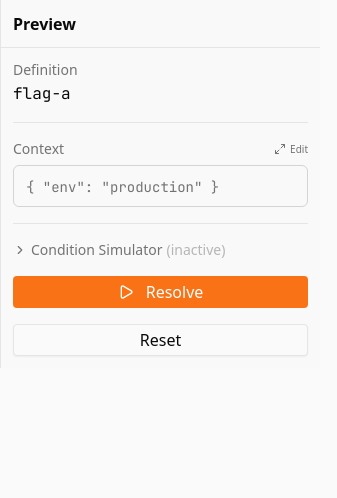
Test case: PreviewPanel › should show no-match result when variation is not found
The width and height of the screenshot is (337, 498).
Click the button "Resolve".
click(160, 292)  # box top-left (13, 276), bottom-right (308, 308)
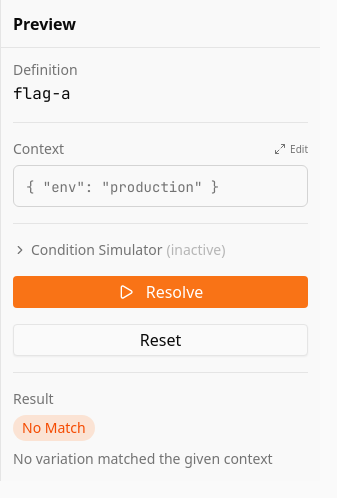
Now the text "No Match" is shown, box top-left (13, 415), bottom-right (95, 441)
